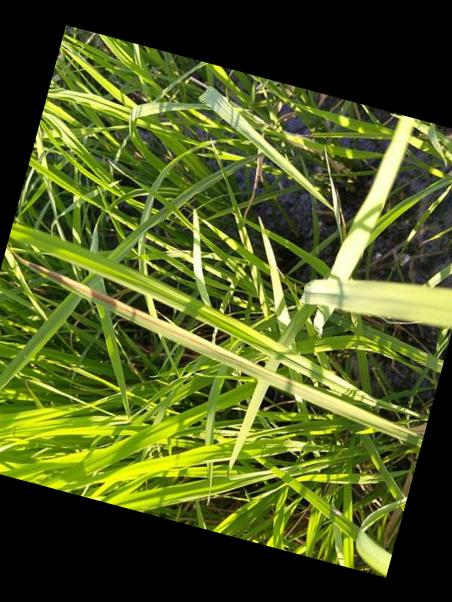Leaf Streak: (19, 260, 250, 369)
